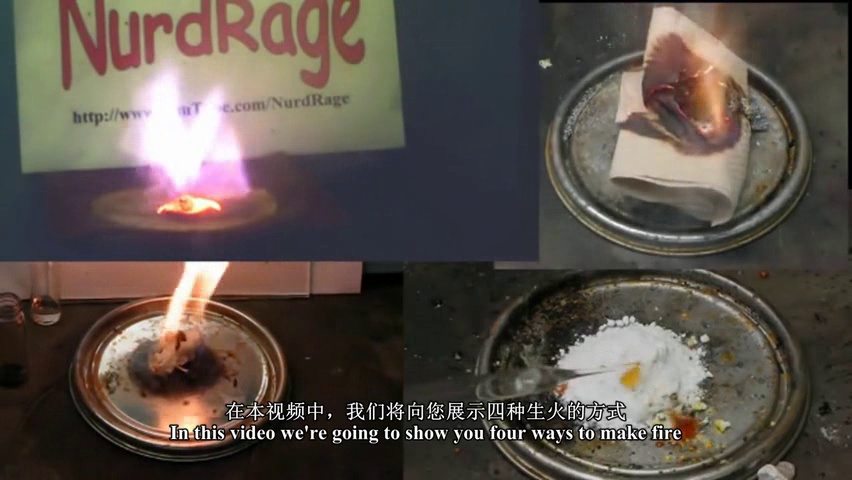fire: (115, 62, 253, 211), (632, 1, 754, 144), (158, 254, 240, 364)
